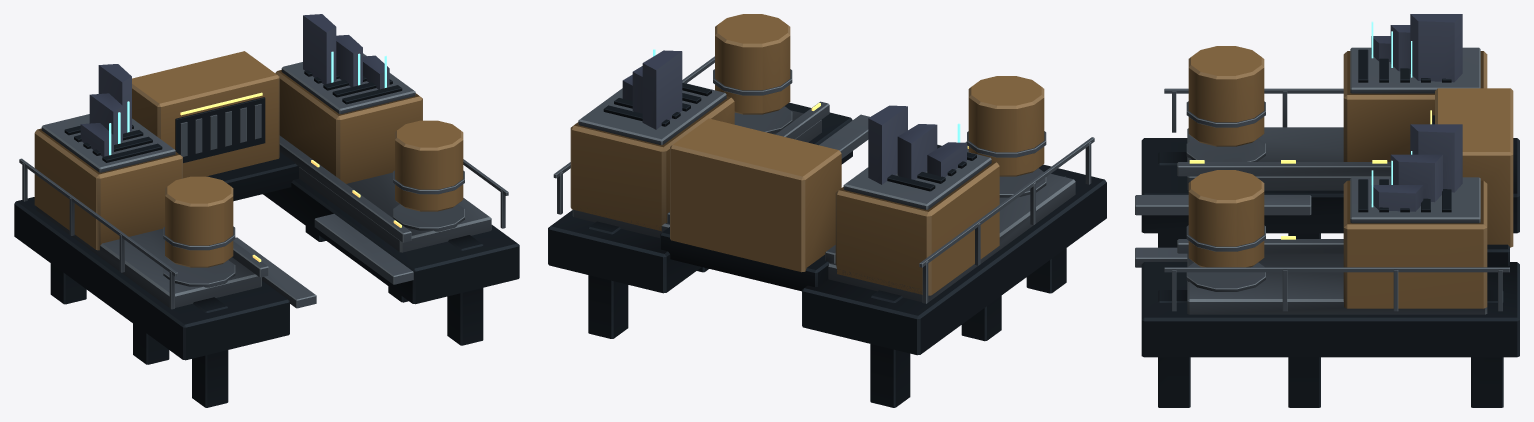
File: facility-compounds.glb
3 views of the same model, side by side, from view 1: azimuth 30°, elevation 25°; view 2: azimuth 150°, elevation 25°; view 3: azimuth 270°, elevation 25° (orthographic). The views are drawn at different scales.
Parts seen in each view (by area): view 1: facility_khepri, facility_nacre; view 2: facility_khepri, facility_nacre; view 3: facility_khepri, facility_nacre.
Boxes of the visible parts, box(x1,y1,x2,y2) form: facility_khepri: box(14, 51, 519, 407); facility_nacre: box(80, 14, 389, 156); facility_khepri: box(548, 14, 1106, 407); facility_nacre: box(622, 49, 966, 184); facility_khepri: box(1135, 46, 1519, 407); facility_nacre: box(1371, 14, 1462, 211).
Bounding box in the file's own units: 6.6 × 4.4 × 5.9.
